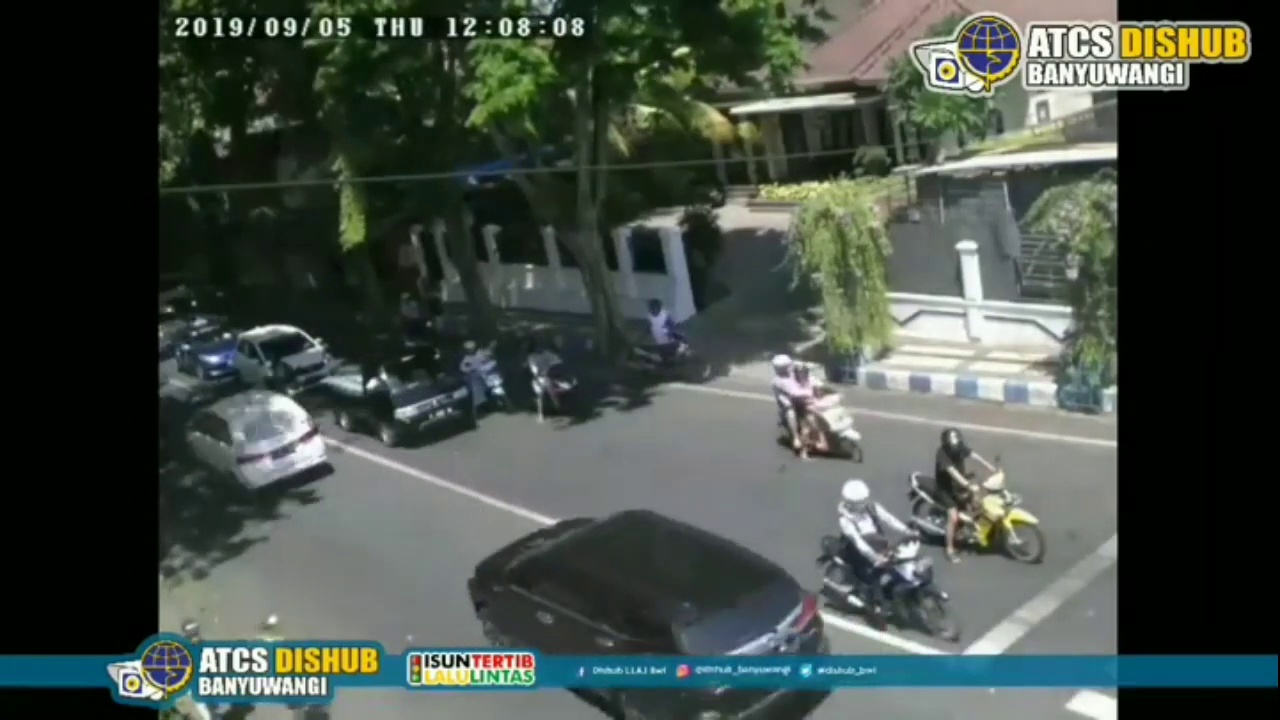car: (474, 514, 844, 720), (330, 333, 470, 450), (190, 392, 323, 496), (235, 323, 332, 391), (177, 323, 241, 383)
motorbike: (820, 475, 953, 636), (920, 433, 1044, 569), (774, 352, 859, 463), (528, 331, 579, 421), (462, 331, 509, 415), (267, 358, 302, 408)
